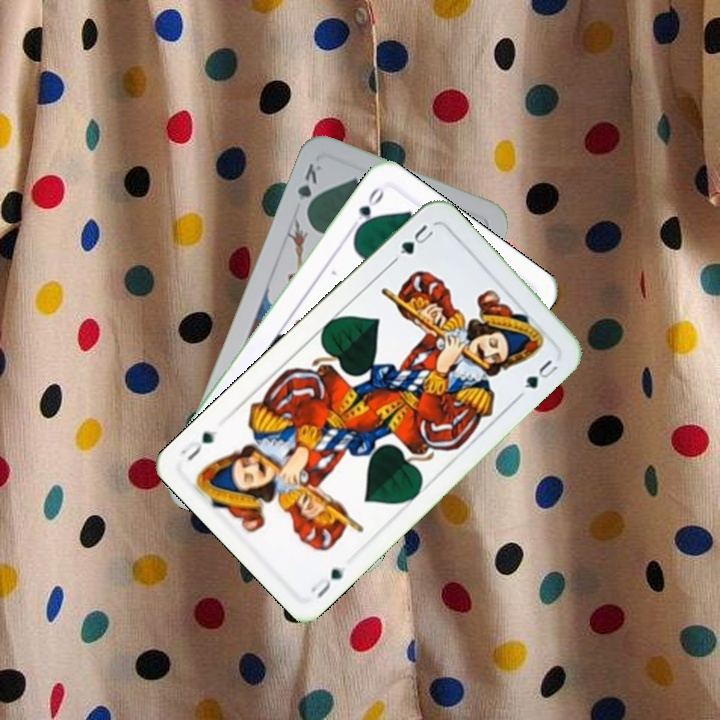GK: (293, 159, 324, 217)
GO: (346, 182, 387, 236)
GU: (306, 564, 347, 602), (395, 220, 436, 257)
